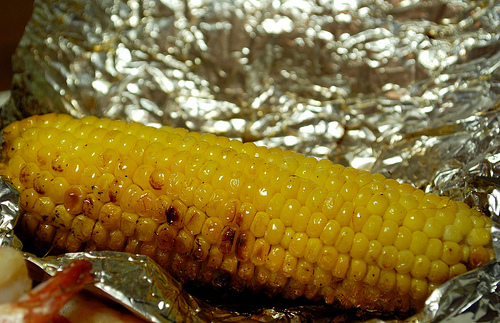corn: (3, 112, 494, 317)
